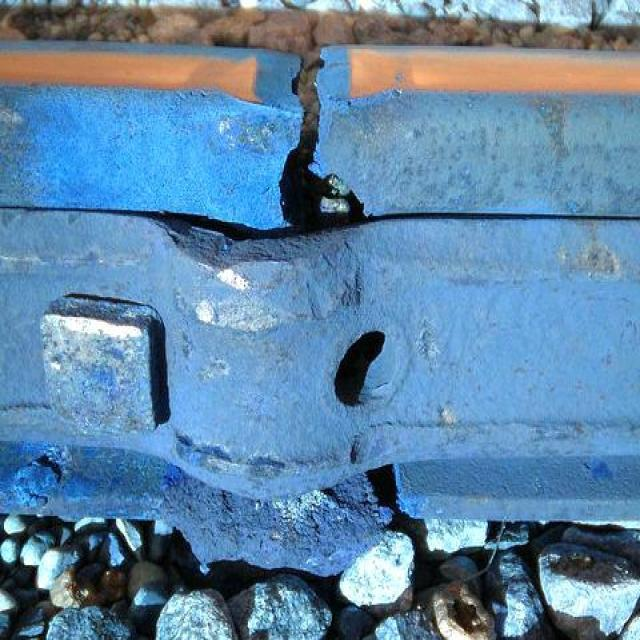Defective Joint: (0, 42, 640, 592)
